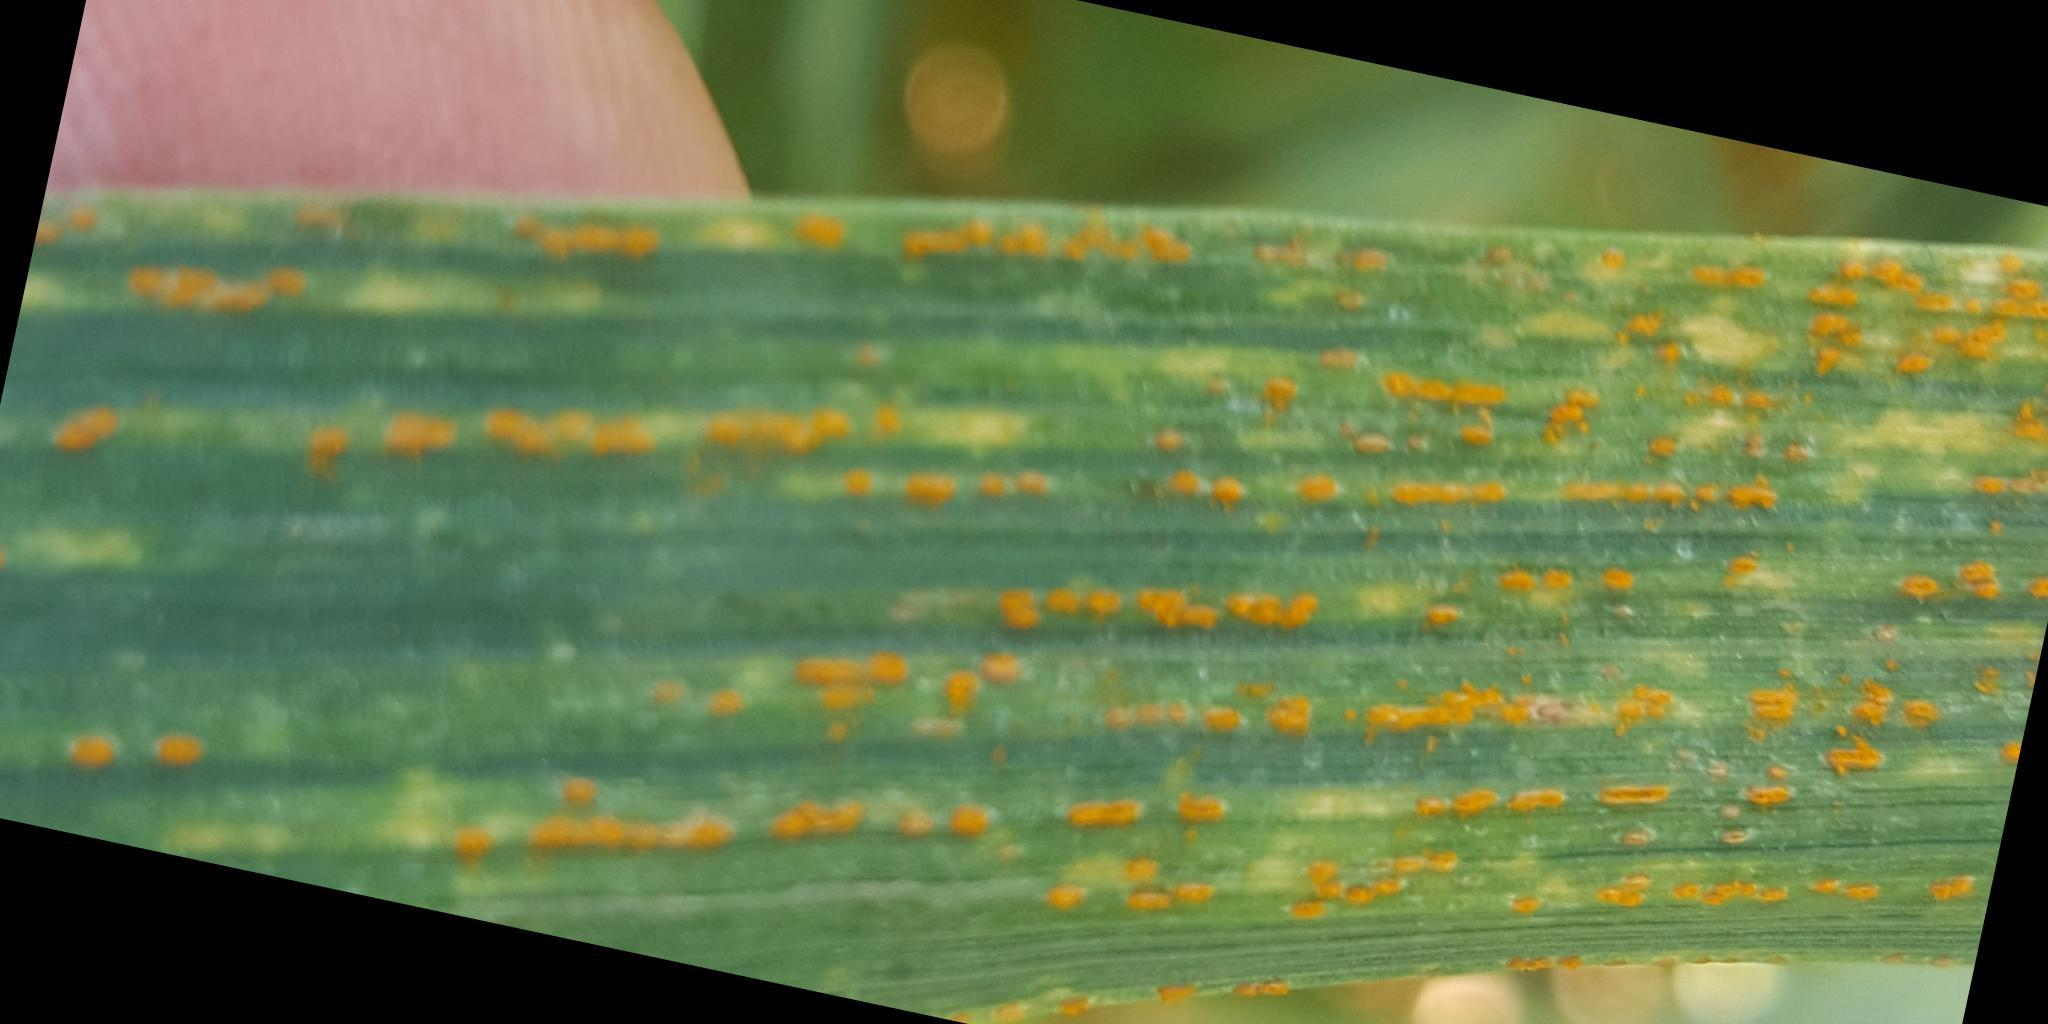Wheat: (1106, 319, 1672, 941), (510, 470, 1089, 884), (1689, 262, 1986, 913)
